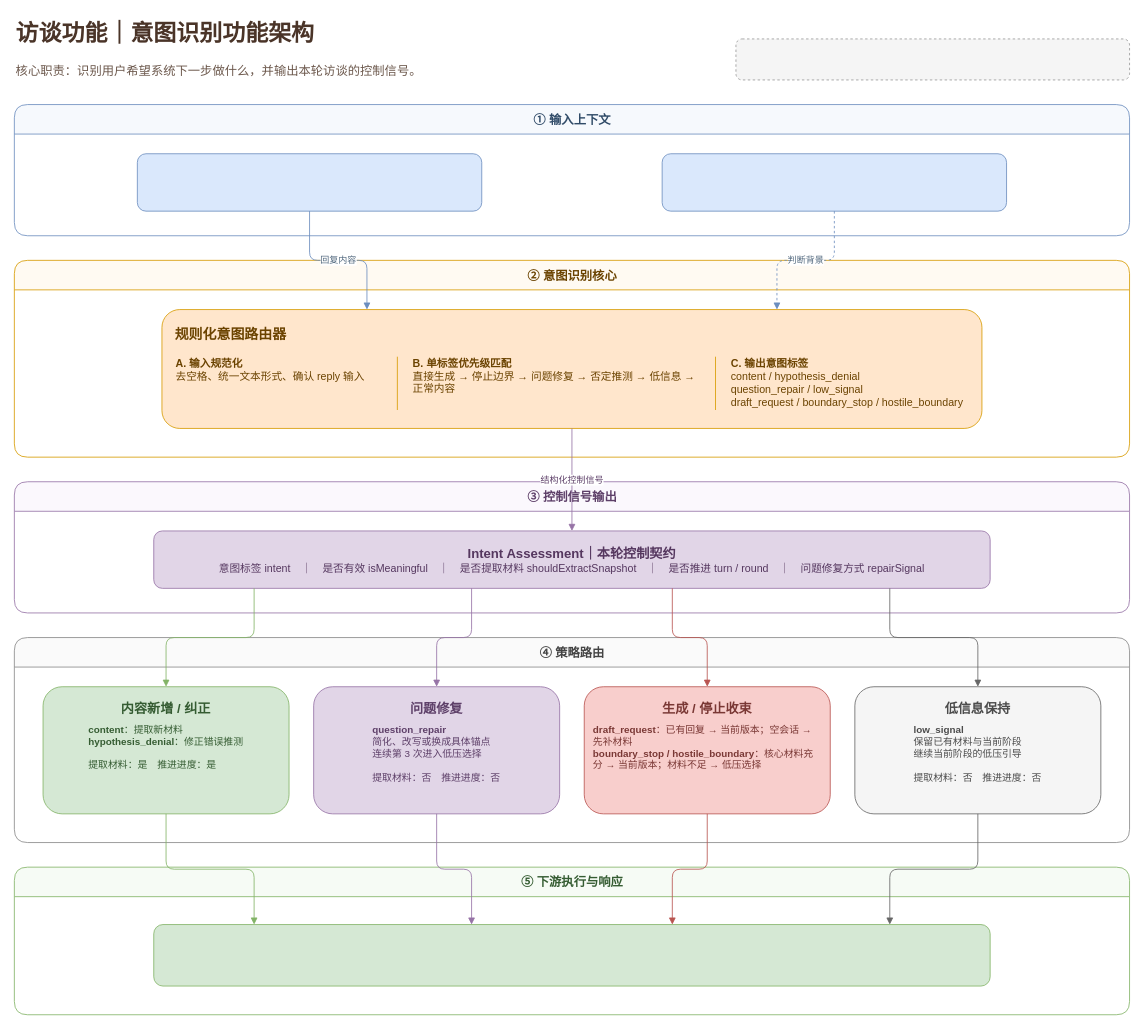
Image size: 1144x1029. Some labels were removed from this diagram. Here are the shapes that lost their labels. From the top down, the centre of each, then its label:
At point 932,59: "范围说明｜显式按钮动作已携带确定指令，直接进入下游执行；本图聚焦自然语言 reply 的识别链路。".
At point 309,182: "用户自然语言回复 文字输入或语音转写内容".
At point 834,182: "当前会话上下文 维度、事件、阶段、历史消息、待处理选择".
At point 571,955: "执行识别结果 按需进入槽位提取与访谈状态机 → 生成追问或选择卡 → 保存消息、控制信号和会话状态 → 向用户响应".
